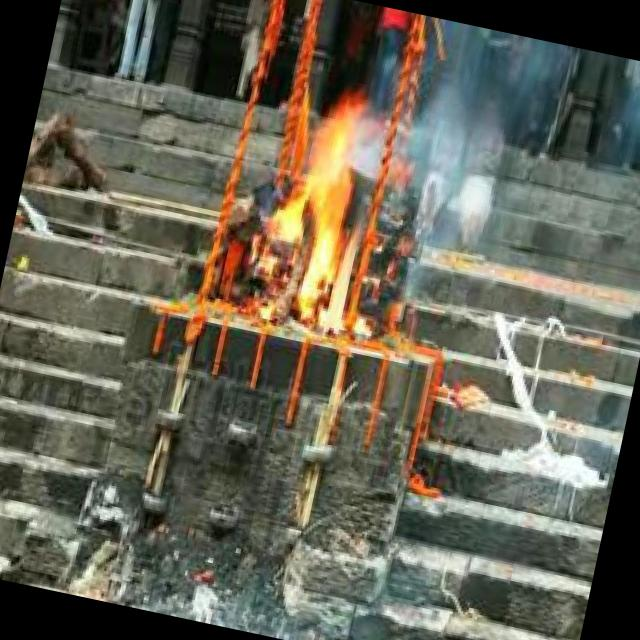Fire: (247, 93, 394, 343)
